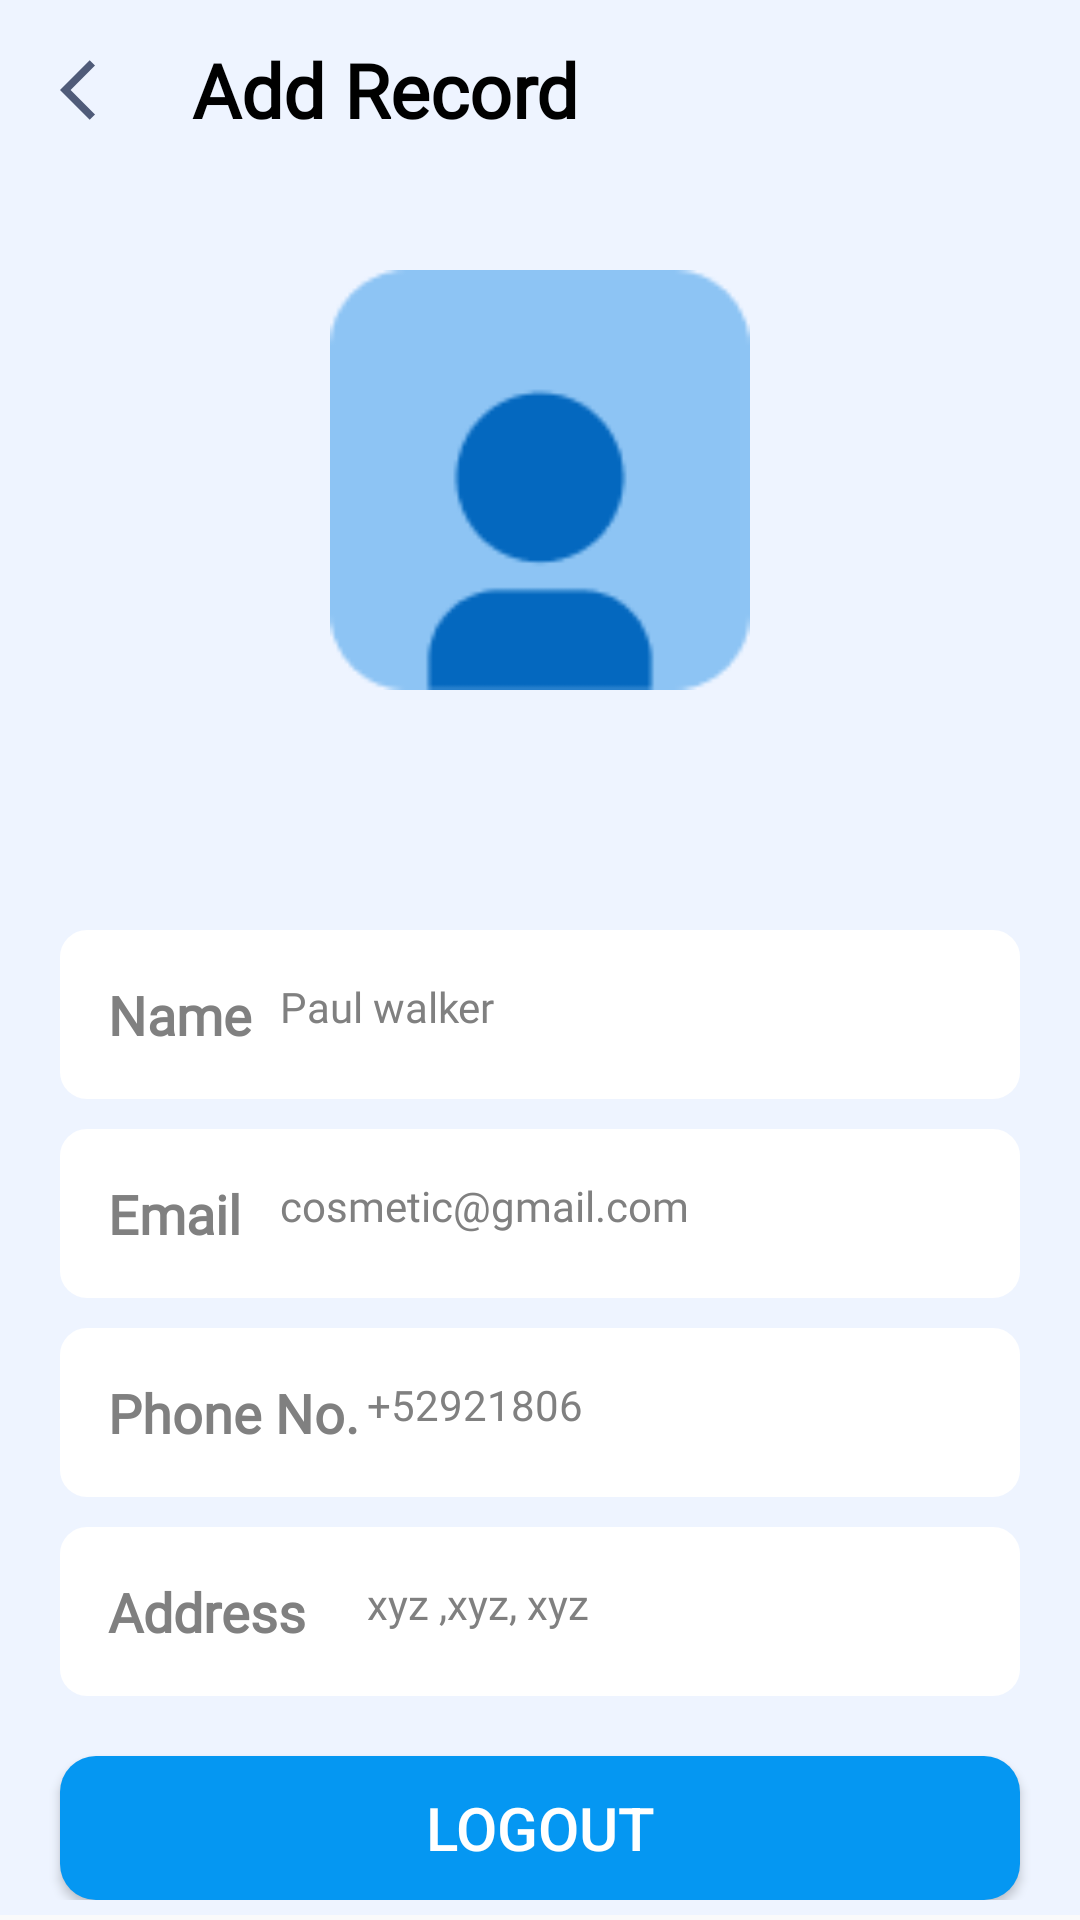

Icons on this 1080×1920 Android screen, each with the point to tap as point (x, y):
back: point (77, 90)
